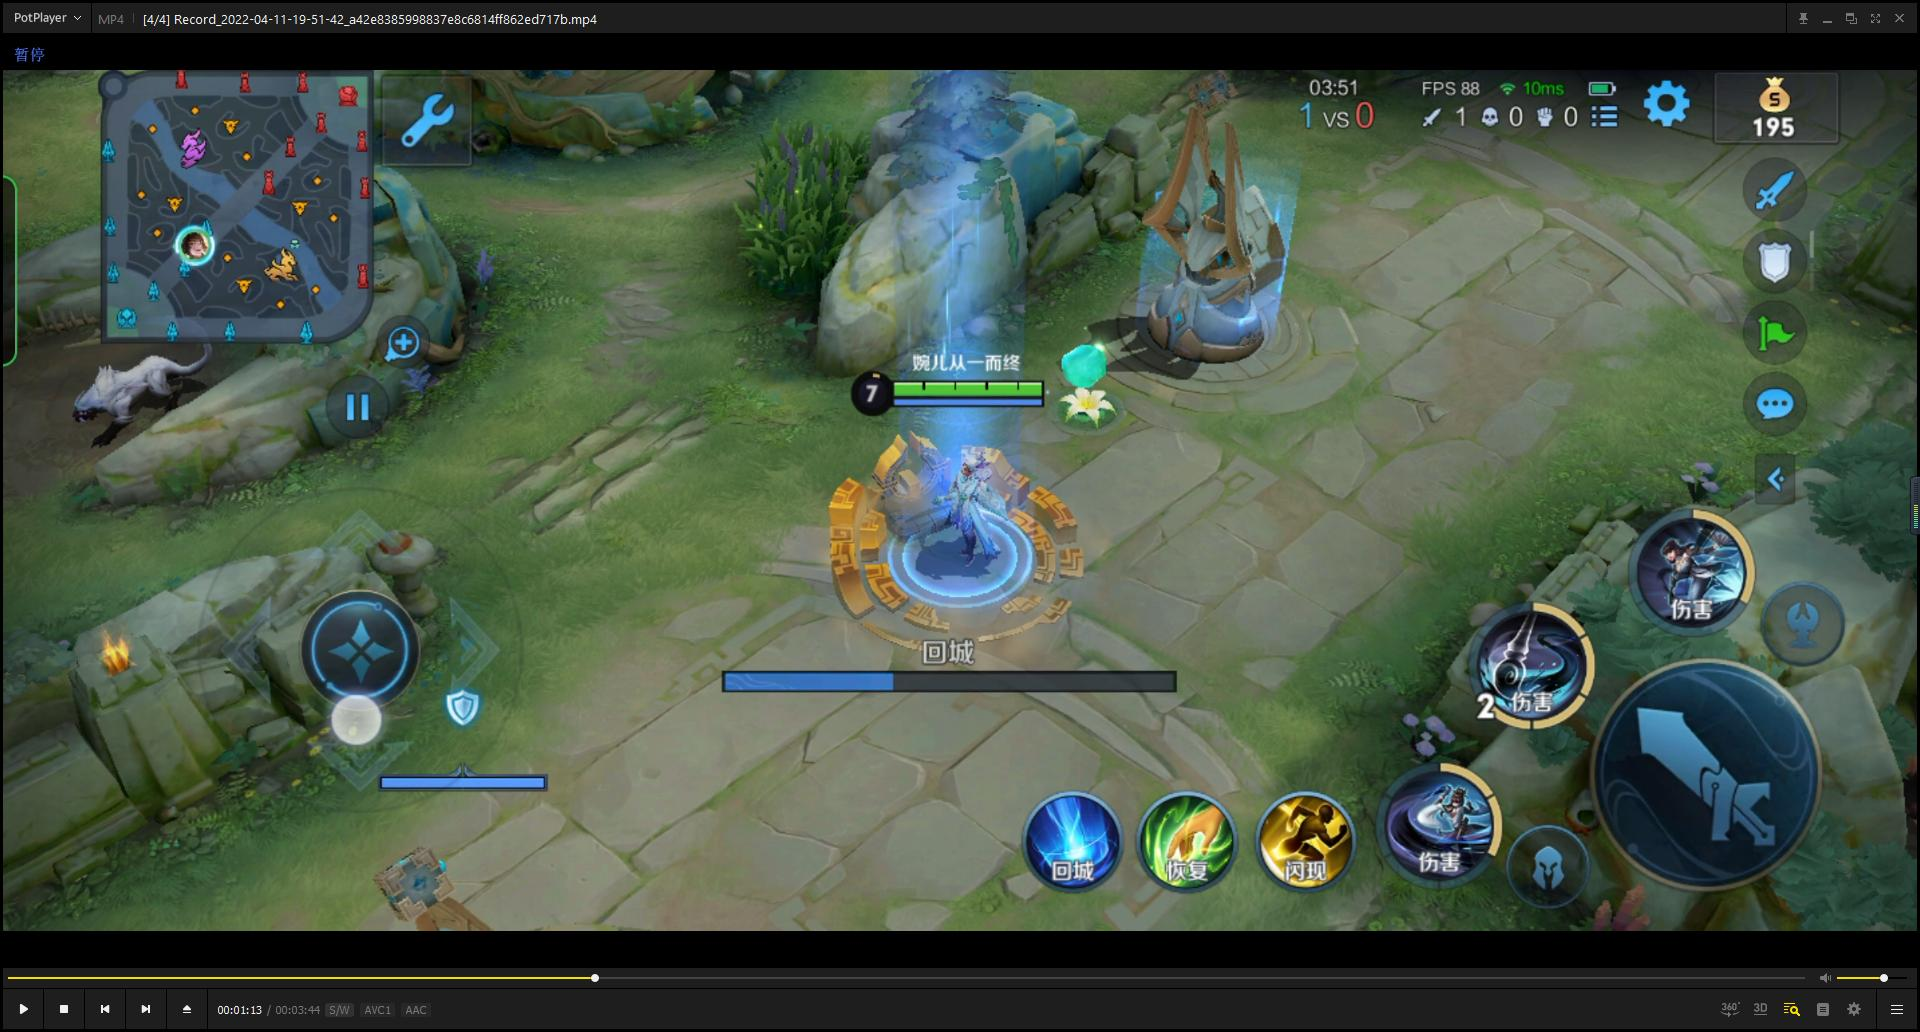Hero: (917, 437, 1038, 590)
Tower: (1142, 61, 1318, 386), (370, 666, 577, 930)
Wolf: (56, 336, 240, 463)
